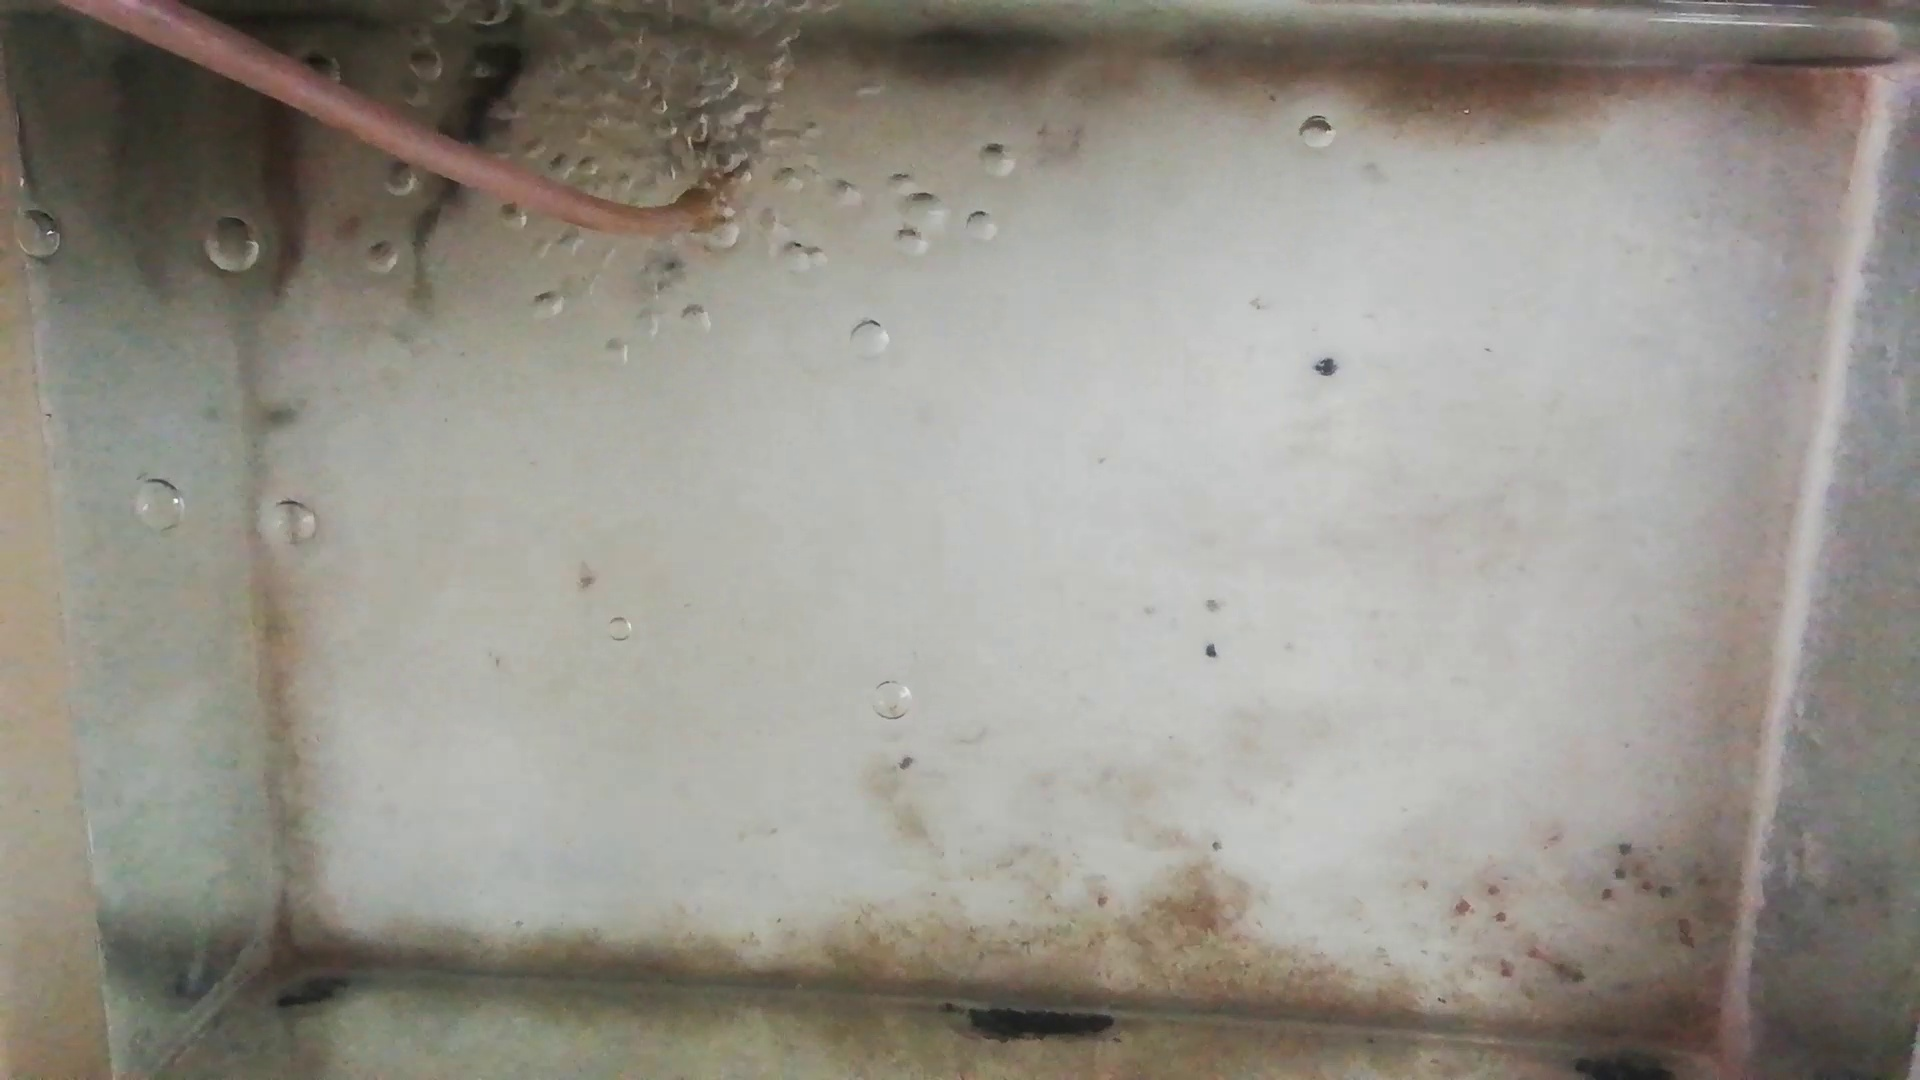fish: (409, 47, 527, 251), (257, 94, 309, 306)
